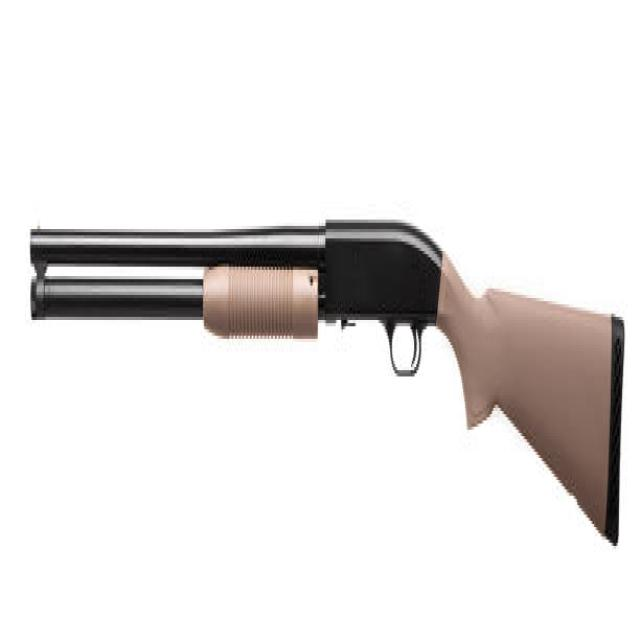rifle: (21, 206, 633, 573)
